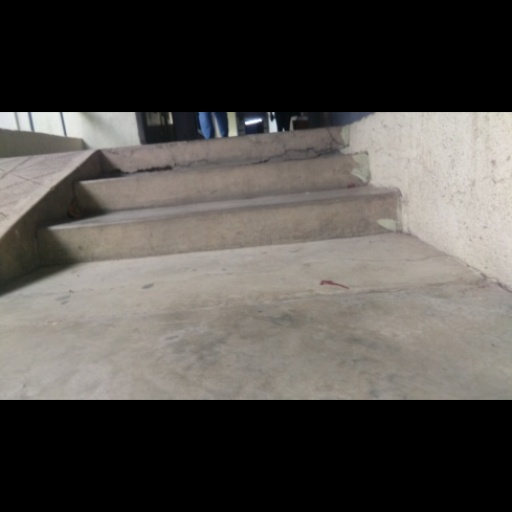Stairs: (39, 128, 399, 265)
